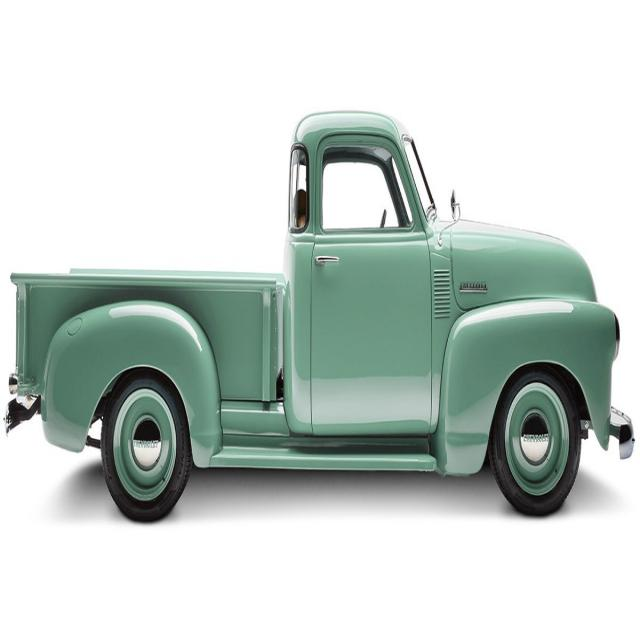truck: (8, 68, 634, 550)
